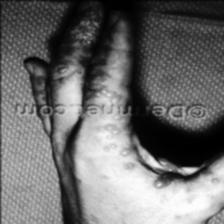Non-Cancerous Skin Condition: (70, 17, 96, 41), (90, 89, 122, 102), (98, 124, 116, 134), (152, 178, 166, 190), (124, 162, 134, 170), (118, 147, 127, 155), (112, 142, 114, 147)
